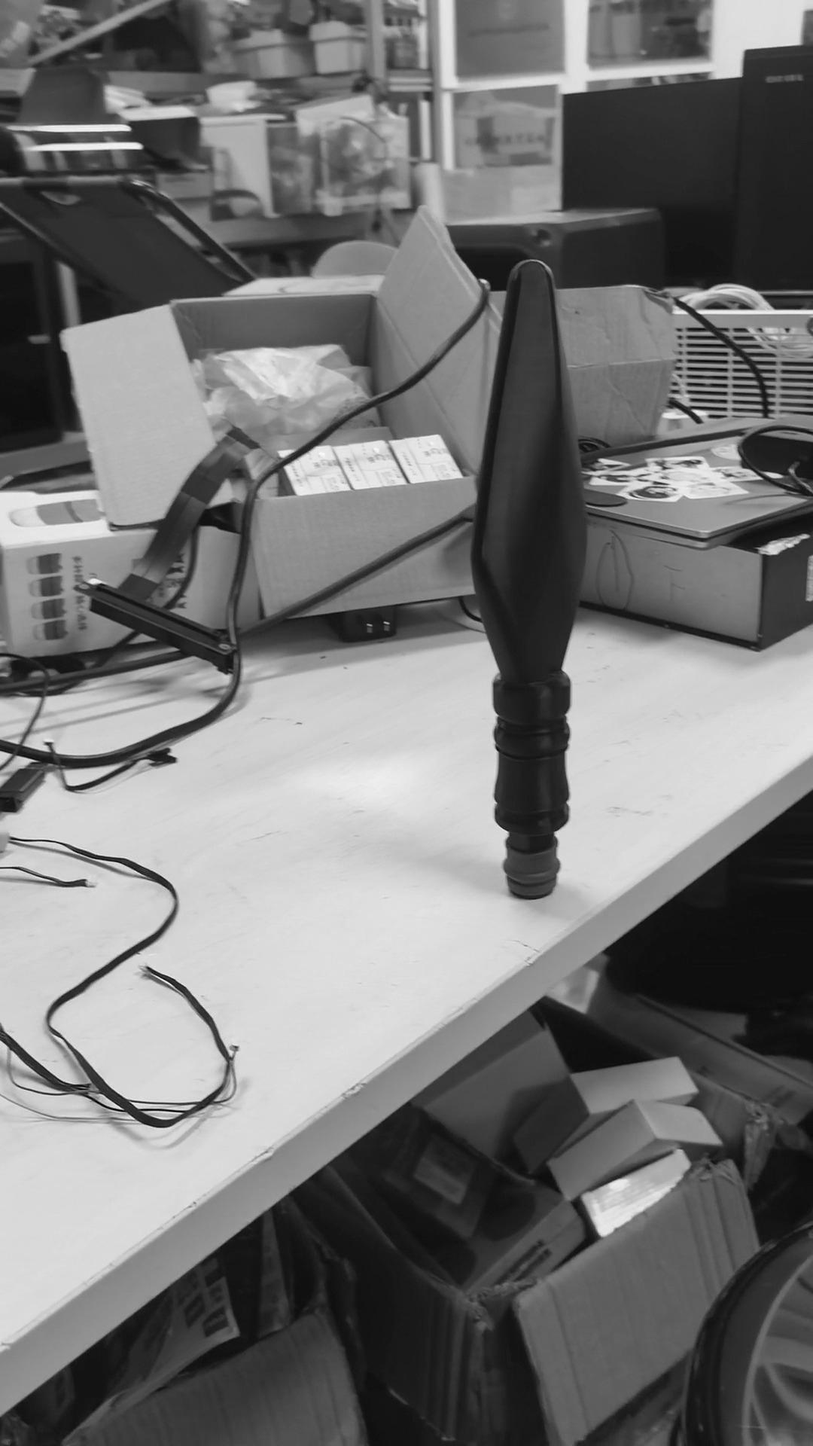base: (497, 831, 573, 906)
